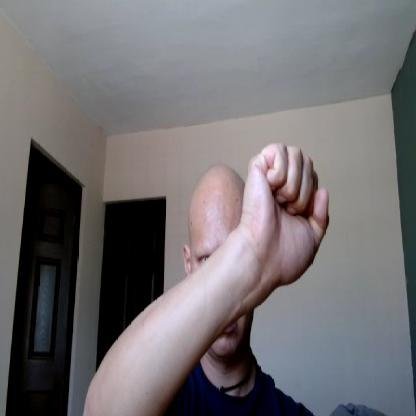S: (241, 141, 334, 285)
